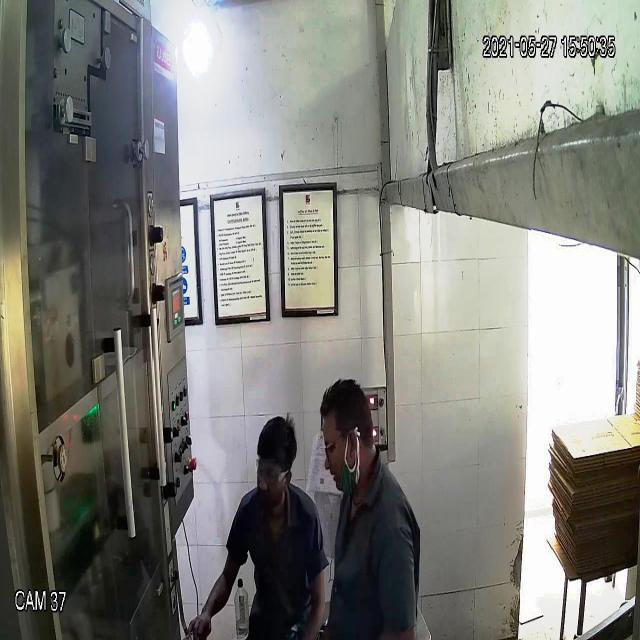glasses: (254, 453, 292, 487)
